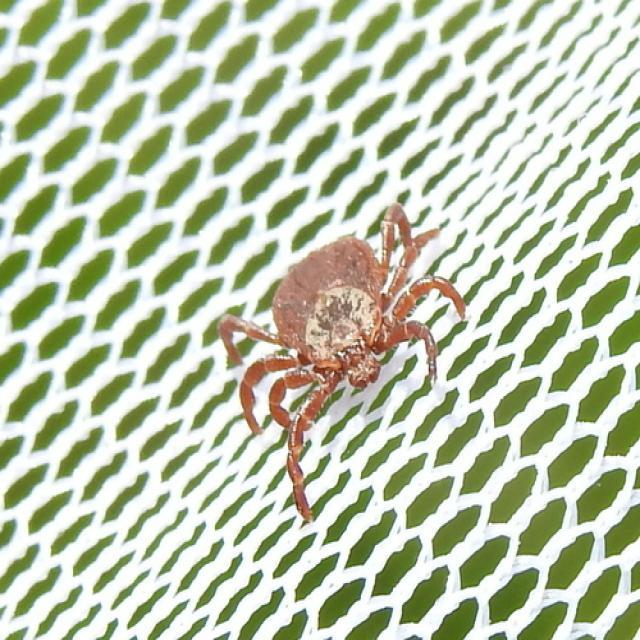Dermacentor Reticulatus-F: (218, 205, 466, 522)
